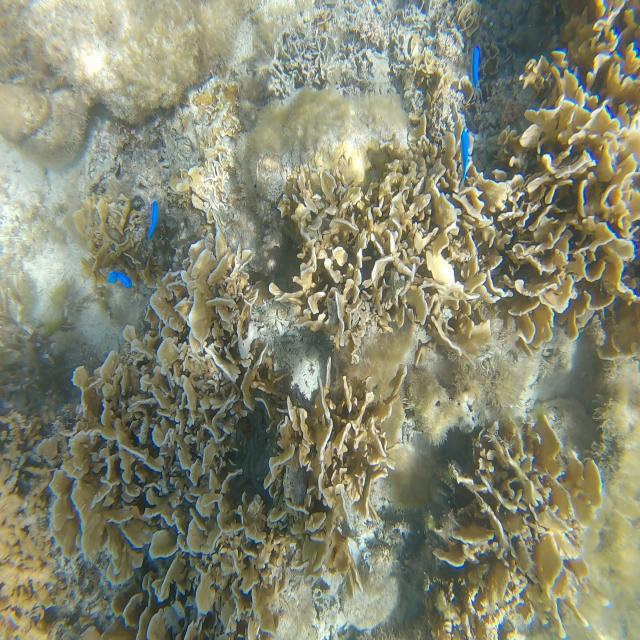rurisuzumedai: (461, 128, 470, 180), (148, 201, 159, 241), (107, 271, 132, 288), (472, 46, 480, 90)
